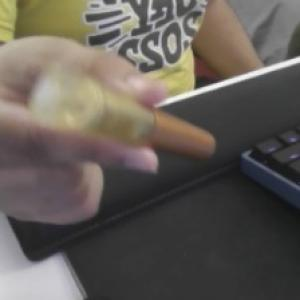Golden-E-Ciggirate: (31, 60, 218, 160)
